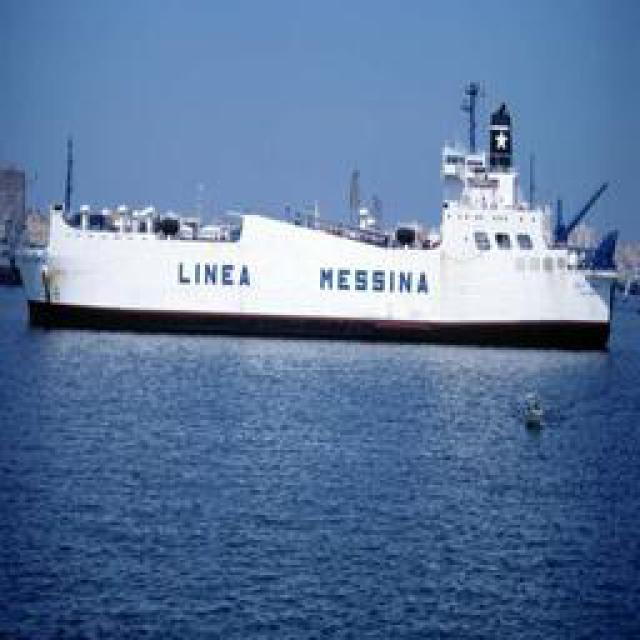Ship: (22, 83, 612, 338)
